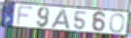5: (73, 11, 88, 30)
6: (92, 10, 107, 33)
9: (36, 6, 52, 29)
A: (50, 8, 72, 31)
F: (16, 5, 34, 26)
O: (108, 13, 126, 34)
